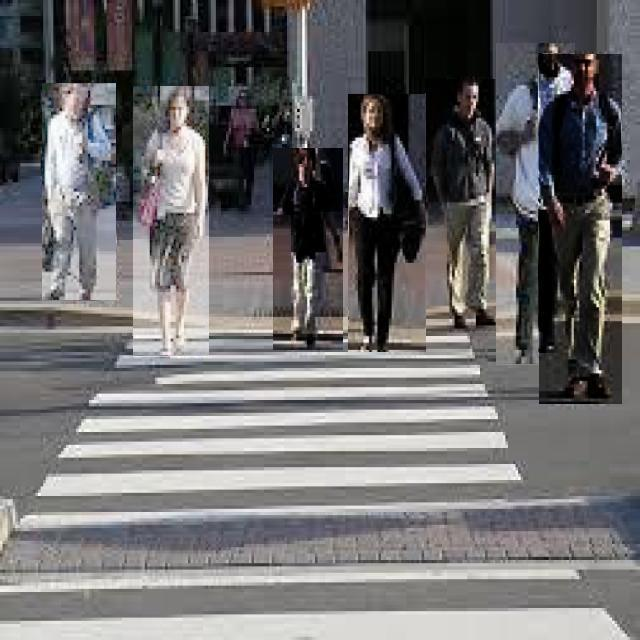without scooter: (540, 54, 622, 404), (497, 44, 576, 366), (133, 87, 209, 358), (348, 95, 426, 352), (426, 80, 502, 332), (42, 83, 116, 300), (273, 148, 343, 350)
